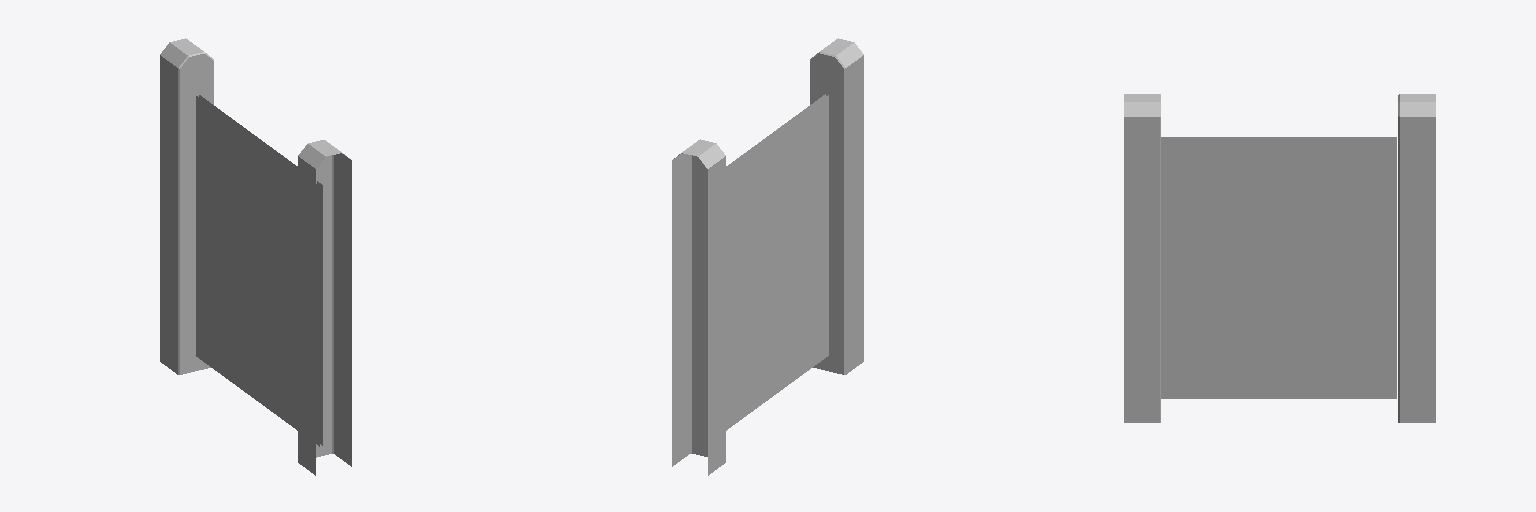
The model's file is InnerWall_door.obj.
3 renders of one model, left to right at view 1: azimuth 30°, elevation 25°; view 2: azimuth 150°, elevation 25°; view 3: azimuth 270°, elevation 25°, orthographic.
Parts seen in each view (by area): view 1: doors, inner_walls_door; view 2: inner_walls_door, doors; view 3: doors, inner_walls_door.
Boxes of the visible parts, x1,y1,x2,y2 form: doors: [196, 95, 322, 446]; inner_walls_door: [160, 38, 351, 475]; inner_walls_door: [672, 38, 863, 475]; doors: [726, 94, 828, 430]; doors: [1161, 137, 1396, 398]; inner_walls_door: [1124, 94, 1435, 422].
Size of the model in its own units: 0.3316 by 2.79 by 2.5.